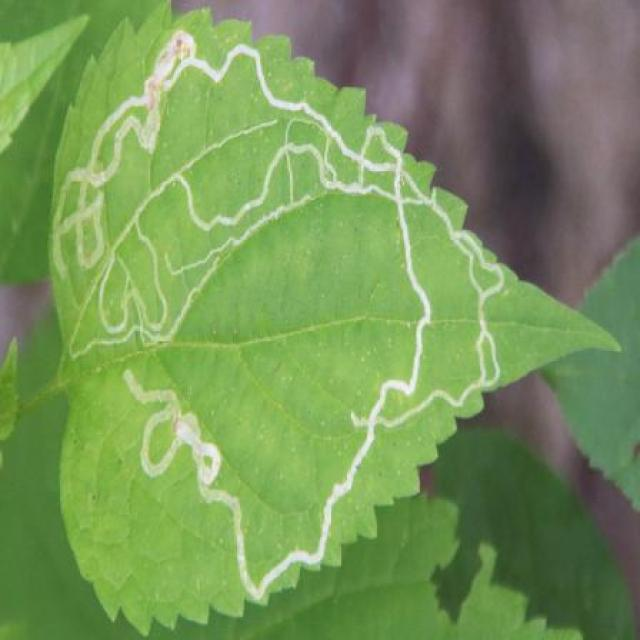Leaf Miner: (44, 0, 620, 640)
